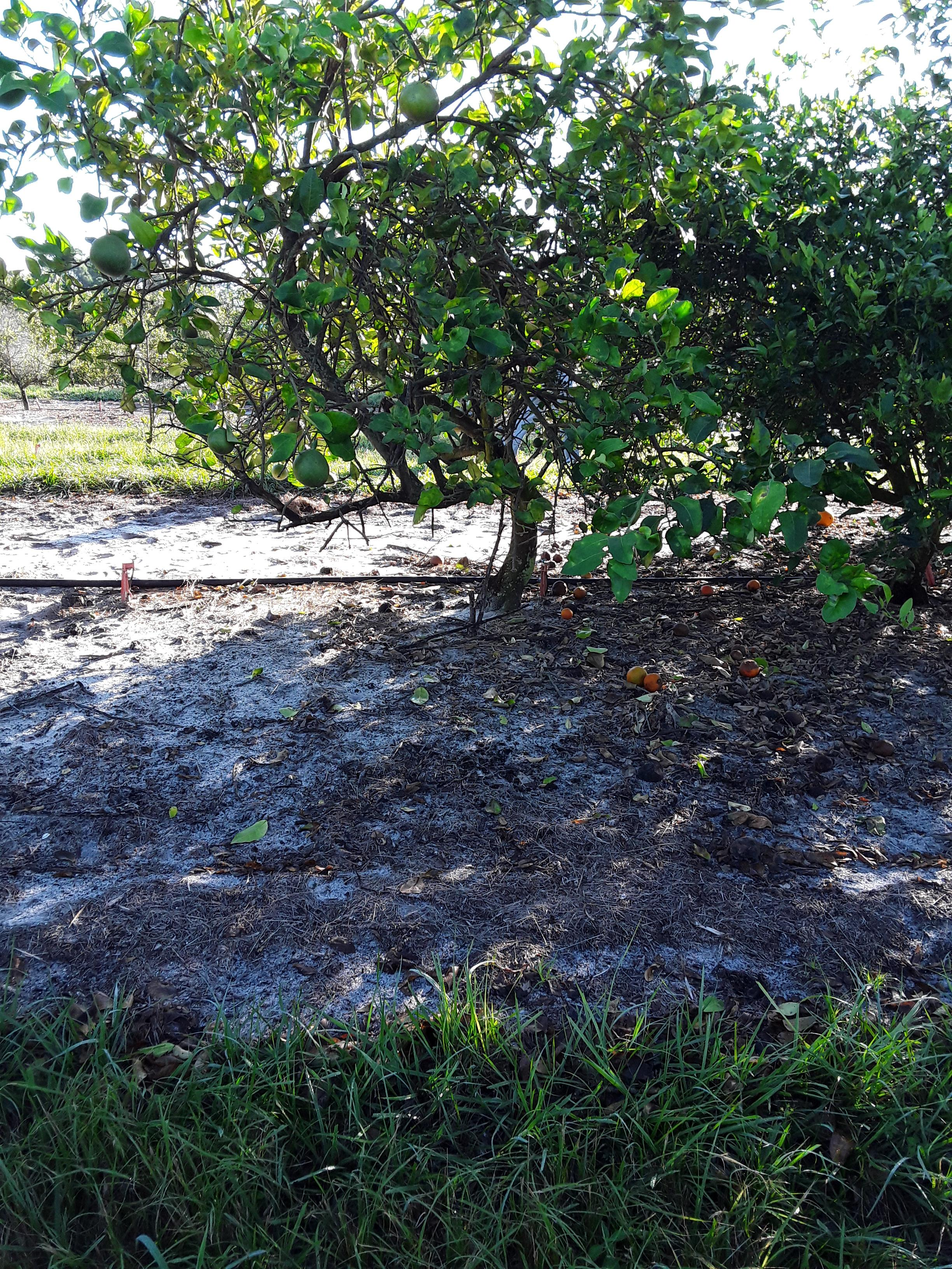fruit_on_ground: (85, 231, 133, 280), (396, 80, 444, 124), (292, 447, 332, 489), (0, 56, 29, 108), (338, 103, 370, 133), (523, 319, 554, 344), (810, 508, 836, 533), (177, 322, 199, 351), (283, 419, 303, 440), (273, 462, 288, 479), (532, 436, 549, 449)
fruit_on_tree: (738, 658, 762, 679), (875, 738, 894, 759), (783, 710, 805, 728), (812, 754, 834, 772), (426, 551, 446, 570), (628, 666, 647, 684), (645, 671, 664, 689), (376, 601, 397, 616), (455, 554, 472, 572), (550, 582, 569, 597), (559, 605, 574, 623), (573, 584, 589, 598), (732, 643, 748, 657), (319, 564, 338, 575), (706, 545, 722, 558), (745, 579, 761, 592), (674, 622, 690, 635), (939, 565, 952, 580), (581, 567, 593, 581), (700, 585, 714, 597), (553, 550, 565, 562), (729, 651, 742, 661), (654, 569, 665, 580), (570, 528, 582, 538), (547, 562, 558, 570), (541, 552, 551, 560), (573, 521, 579, 529), (334, 563, 336, 564)
